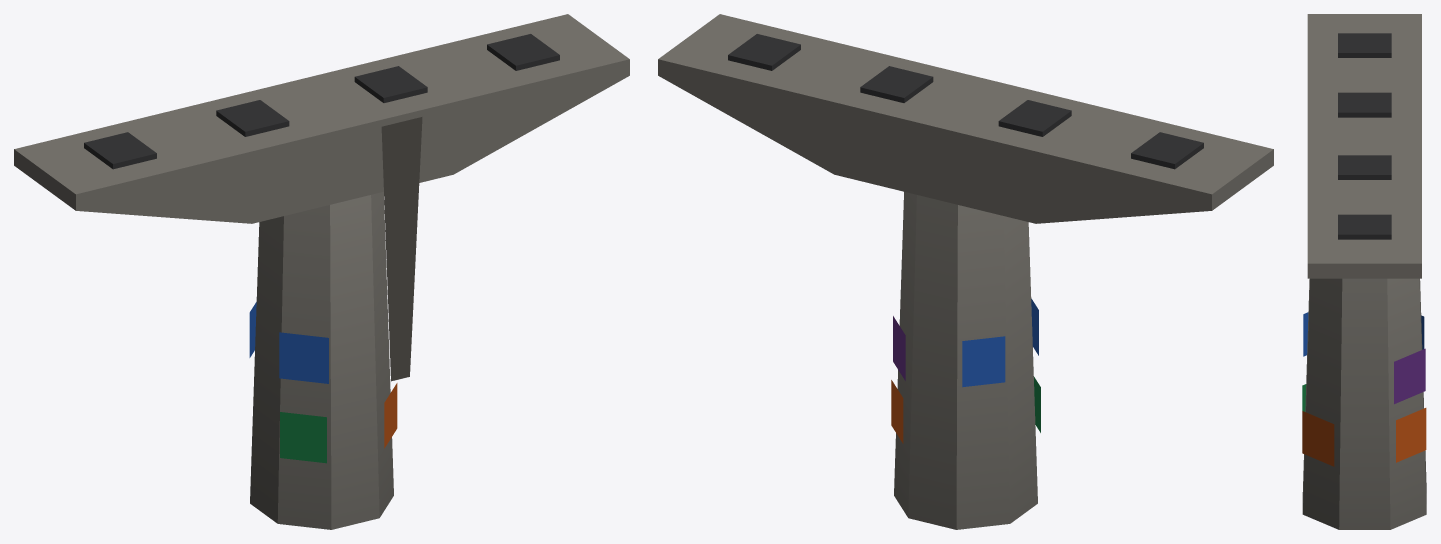
The model's file is ub_pier.glb.
3 renders of one model, left to right at view 1: azimuth 30°, elevation 25°; view 2: azimuth 150°, elevation 25°; view 3: azimuth 270°, elevation 25°, orthographic. The views are drawn at different scales.
Parts seen in each view (by area): view 1: ub_pier; view 2: ub_pier; view 3: ub_pier.
Part boxes in pixels (left/top/right/bottom): ub_pier: left=14, top=14, right=629, bottom=529; ub_pier: left=658, top=14, right=1273, bottom=529; ub_pier: left=1302, top=14, right=1426, bottom=529.
Bounding box in the file's own units: 8.8 × 6.08 × 1.86.
